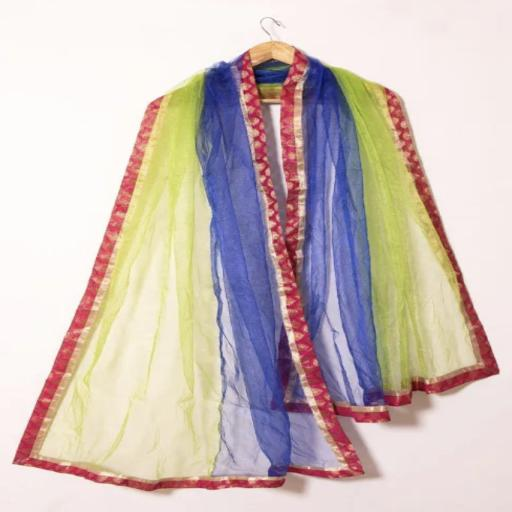Dupatta: (7, 53, 512, 511)
